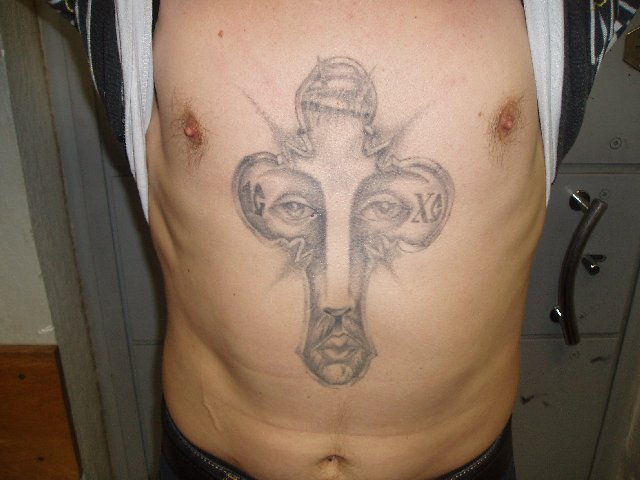tatu9_krest: (243, 51, 452, 402)
